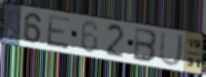2: (105, 23, 127, 62)
6: (80, 19, 100, 56), (23, 11, 43, 45)
B: (132, 26, 160, 64)
E: (45, 13, 72, 51)
U: (158, 30, 186, 68)
